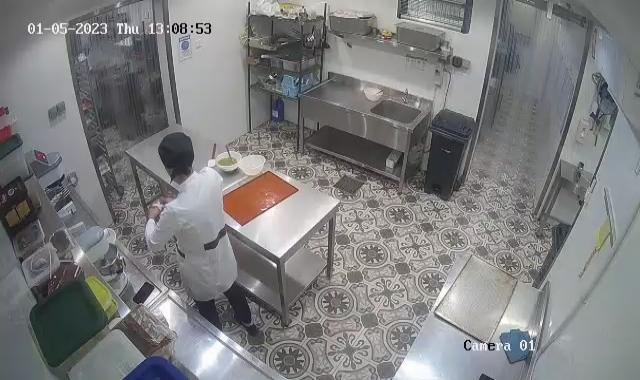no_hairnet: (158, 132, 197, 179)
